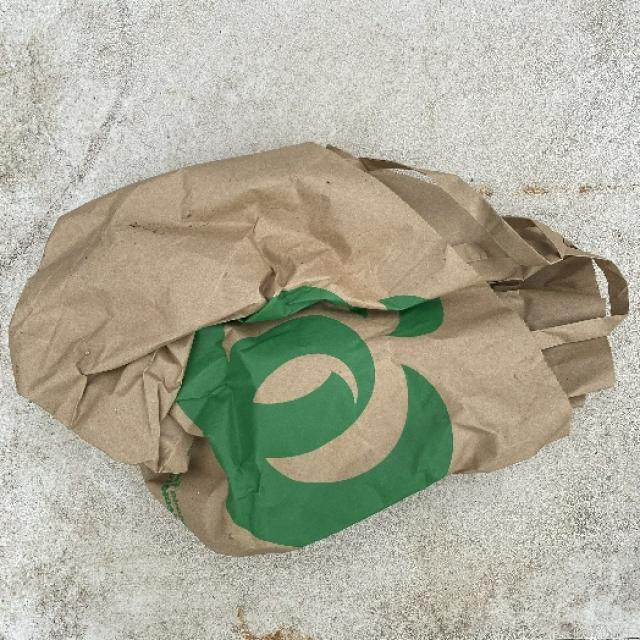inorganic: (9, 142, 628, 551)
